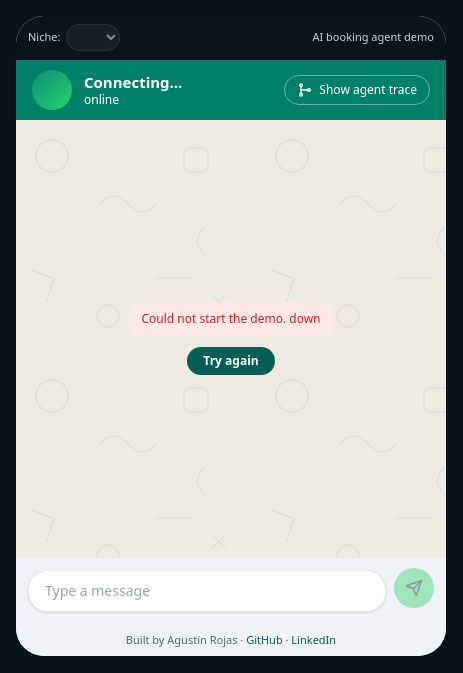
Test: chat flow › offers a retry when the niches cannot be loaded
Check: the text "Could not start the demo. down" is shown, box [130,303,333,335]
Click the button "Try again": (231, 361) [187,347,275,375]
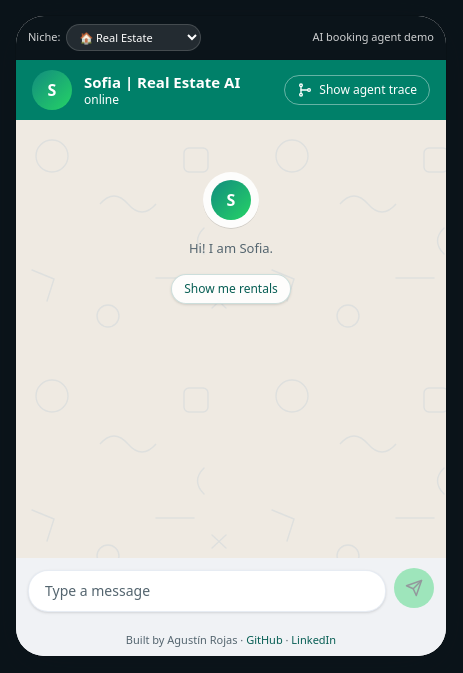
Check: the text "Hi! I am Sofia." is shown, box [189,240,273,258]
